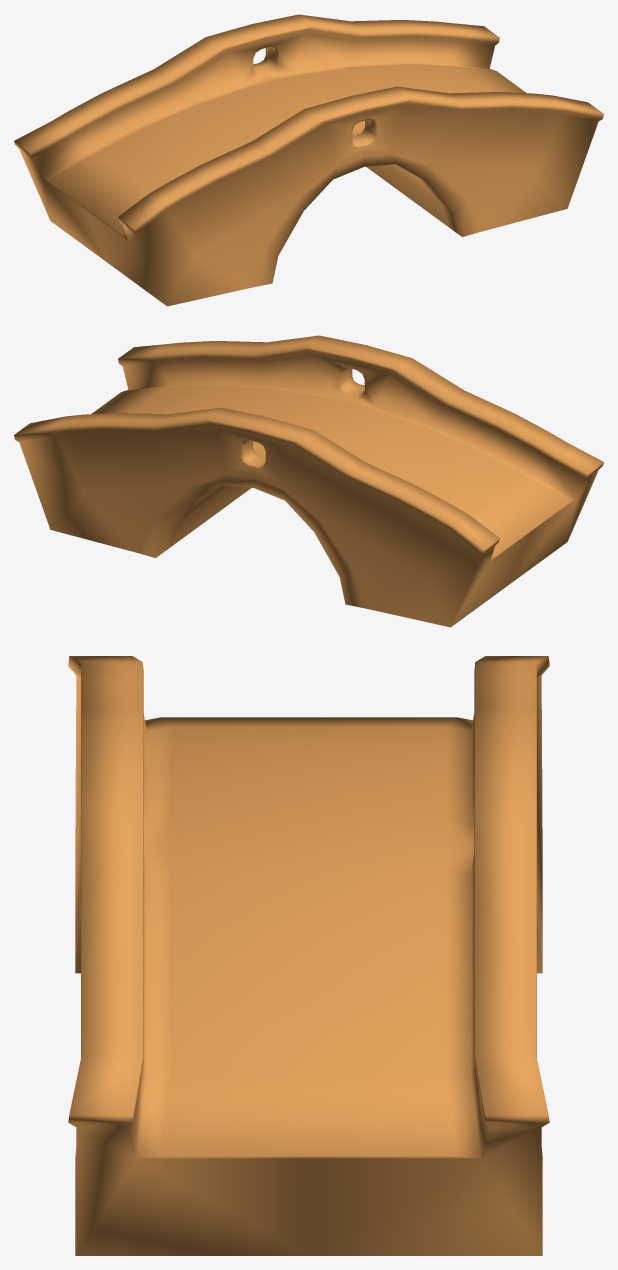
File: bridge_gbread.fbx
The picture shows the model from 3 angles, top to bottom: view 1: azimuth 30°, elevation 25°; view 2: azimuth 150°, elevation 25°; view 3: azimuth 270°, elevation 25°; orthographic projection. The views are drawn at different scales.
Visible parts, largest first — view 1: bridge_gbread; view 2: bridge_gbread; view 3: bridge_gbread.
Boxes of the visible parts, <box> form: bridge_gbread: <box>14,14,603,306</box>; bridge_gbread: <box>14,335,603,627</box>; bridge_gbread: <box>68,656,549,1255</box>.
Bounding box in the file's own units: 2975 × 919 × 1319.
